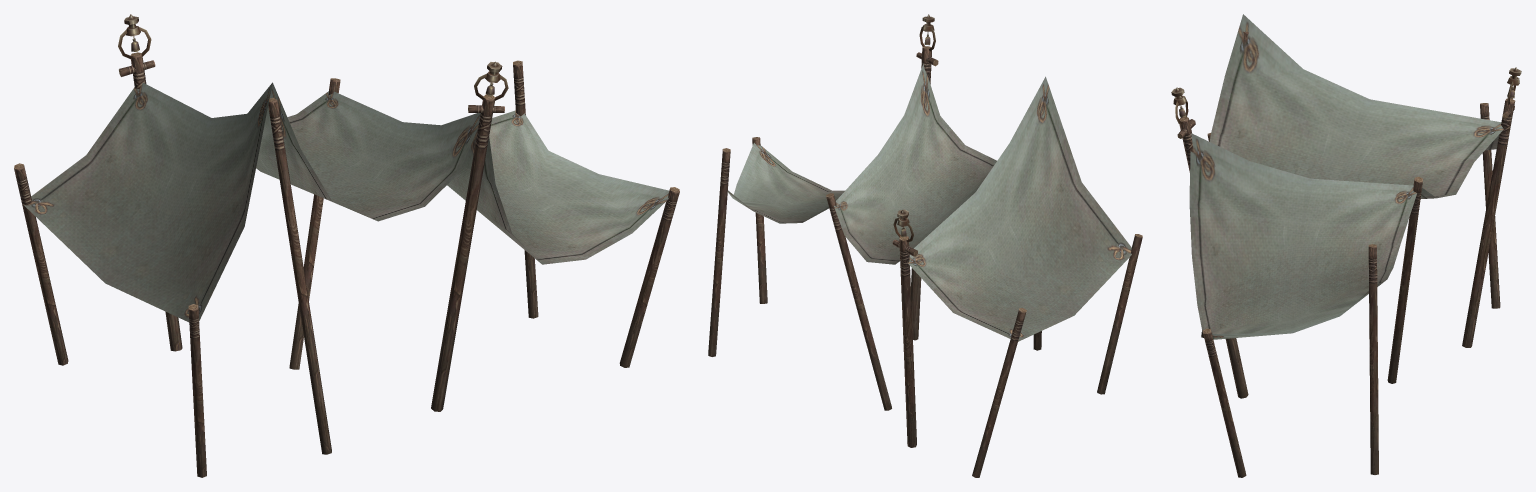
Rendered from yzc_wdm09.FBX.
3 views of the same model, side by side, from view 1: azimuth 30°, elevation 25°; view 2: azimuth 150°, elevation 25°; view 3: azimuth 270°, elevation 25° (orthographic). The views are drawn at different scales.
Visible parts, largest first — view 1: yzc_wdm09; view 2: yzc_wdm09; view 3: yzc_wdm09.
Boxes of the visible parts, left/top/right/bottom form: yzc_wdm09: left=14, top=14, right=679, bottom=477; yzc_wdm09: left=708, top=14, right=1142, bottom=477; yzc_wdm09: left=1171, top=14, right=1521, bottom=477.
Bounding box in the file's own units: 1215 × 881 × 857.
